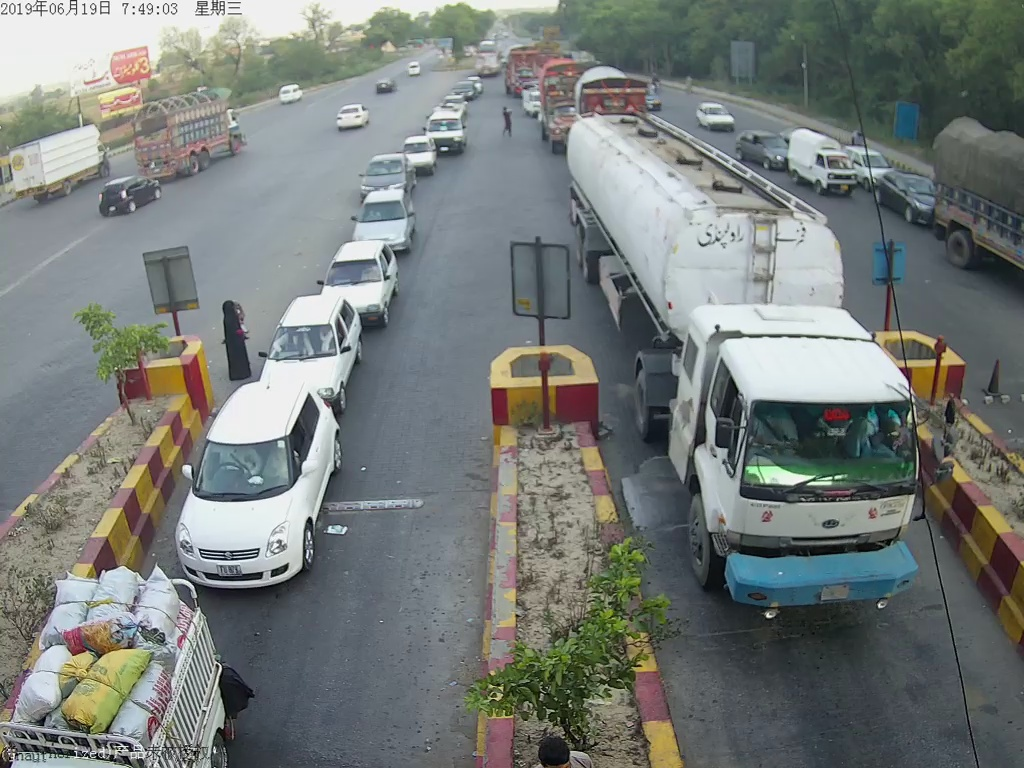Cat-1: (168, 377, 341, 582), (252, 299, 362, 399), (331, 245, 398, 325), (361, 193, 417, 253)
Cat-5: (571, 117, 948, 618)
